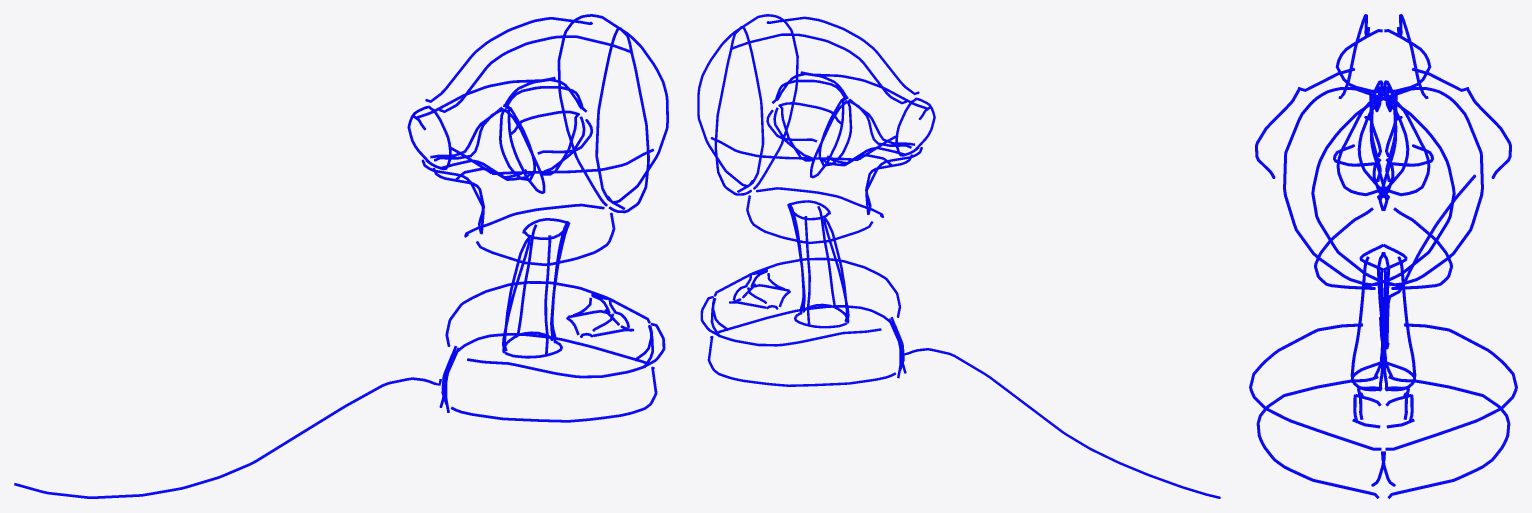
File: cassie_p12_lamp.glb
3 views of the same model, side by side, from view 1: azimuth 30°, elevation 25°; view 2: azimuth 150°, elevation 25°; view 3: azimuth 270°, elevation 25° (orthographic). The views are drawn at different scales.
Visible parts, largest first — view 1: cassie_p12_lamp; view 2: cassie_p12_lamp; view 3: cassie_p12_lamp.
Boxes of the visible parts, x1,y1,x2,y2 form: cassie_p12_lamp: (14,14,668,498); cassie_p12_lamp: (697,14,1220,498); cassie_p12_lamp: (1249,14,1517,498).
Size of the model in its own units: 1 by 0.6185 by 0.3498.
